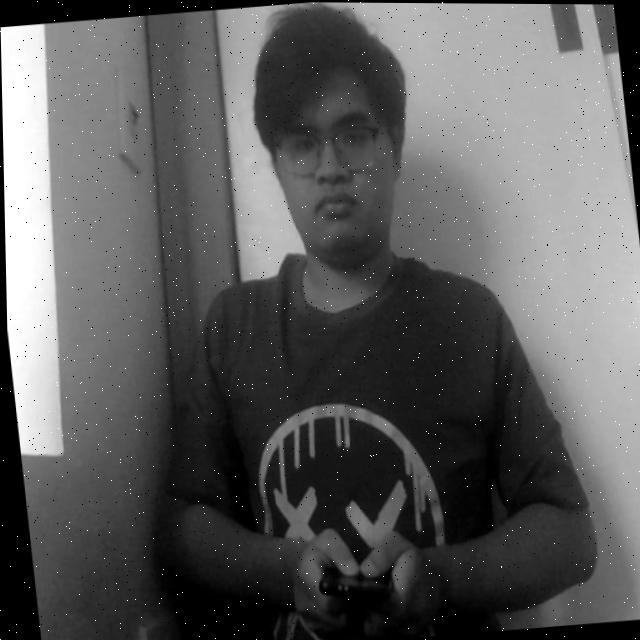phone: (307, 526, 404, 630)
